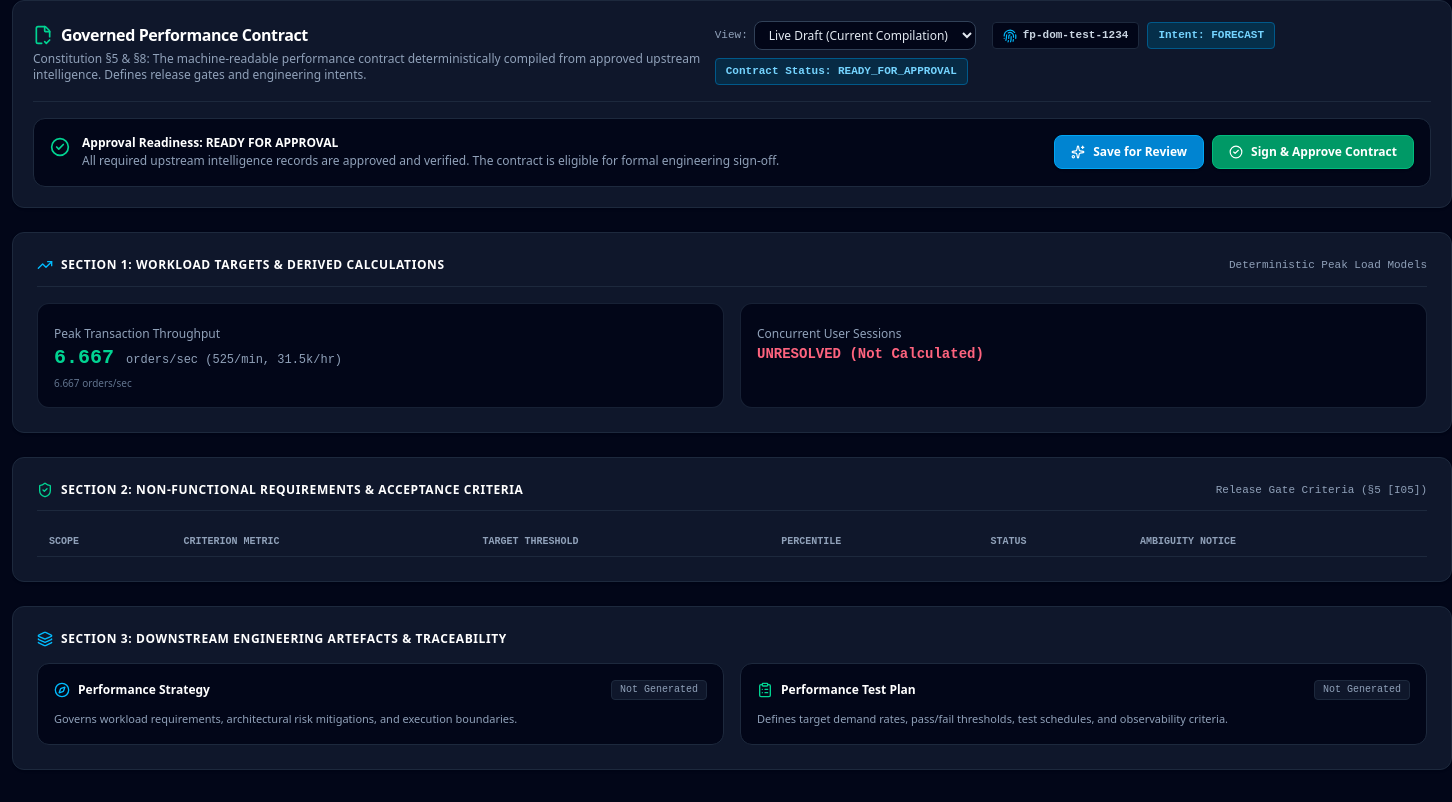
Test: Contract & Artefact Approval Portal DOM Interaction Tests › 2. Submits APPROVE decision with rationale and renders CURRENTLY_VALID approval banner
The image size is (1452, 802).
Select "Rev 1 (CURRENTLY_VALID)" in the dropdown named "Select Contract Revision" at [865, 36], box [754, 21, 976, 50]
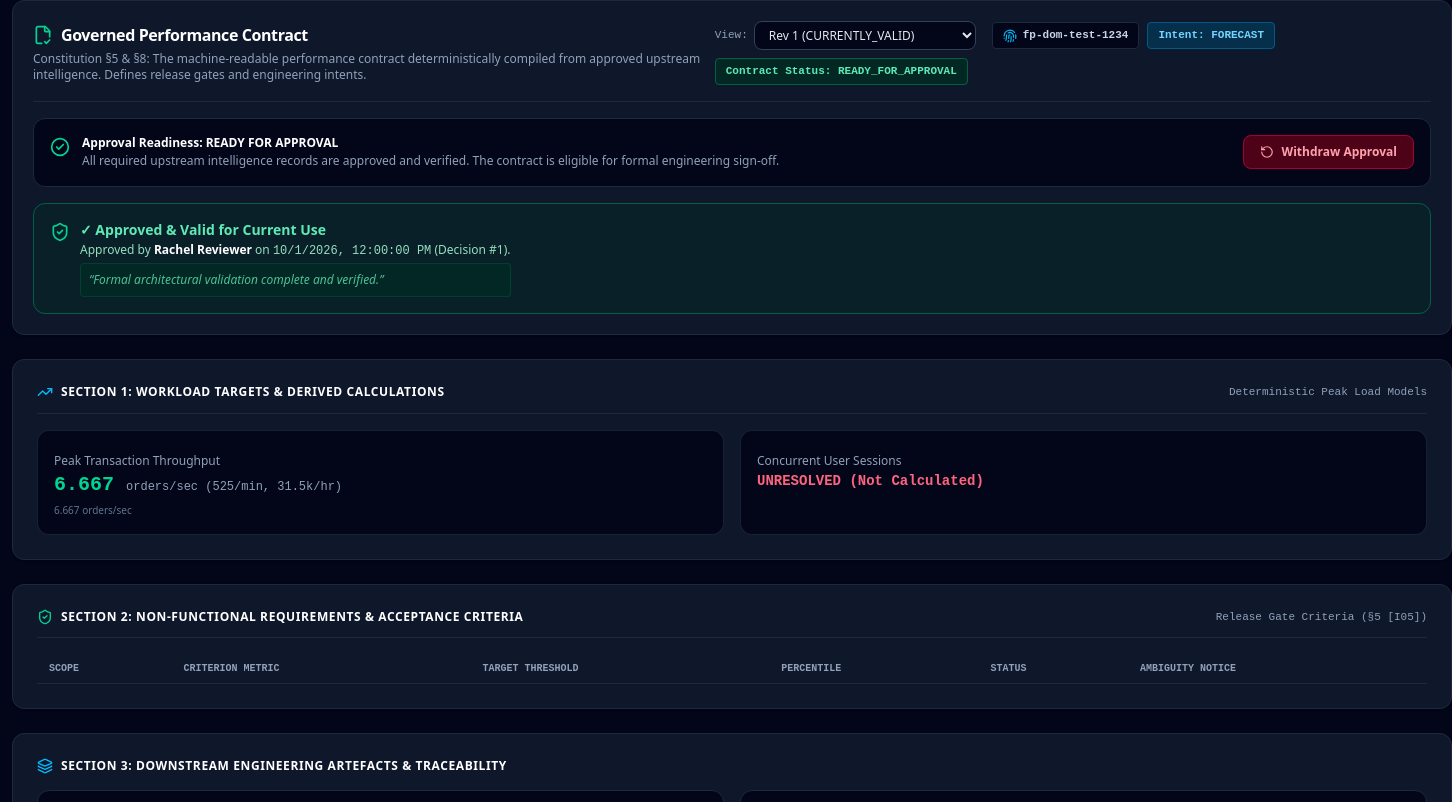
Expected: the text "Approved & Valid for Current Use" is shown, [80, 220, 326, 239]
Expected: the text "Rachel Reviewer" is shown, [154, 241, 252, 258]
Expected: the text "Formal architectural validation complete and verified." is shown, [93, 271, 379, 288]
